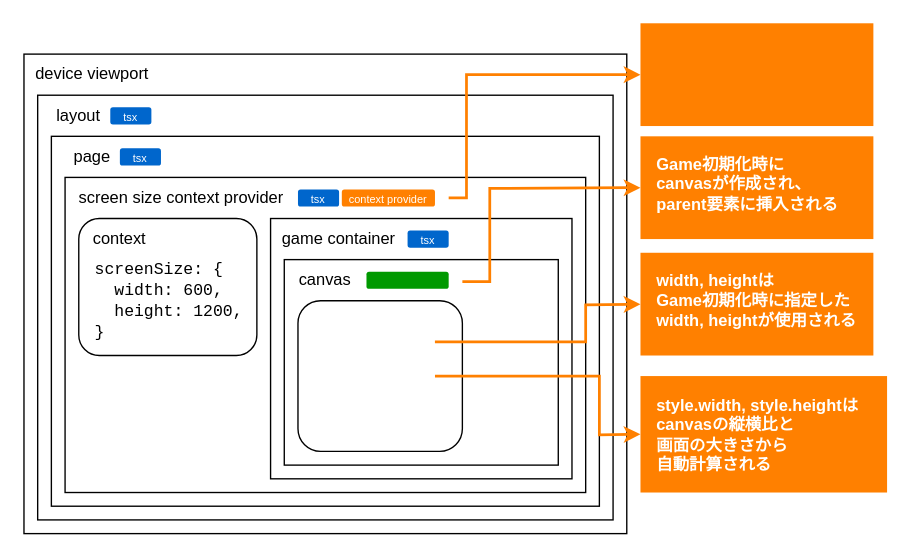
The diagram is 911 pixels wide and 558 high, and some of its shapes have lost their labels. The shapes that lost their labels are listed below. From the top down, each one's centre as x and y in pixels, then its label:
point 756,74: 画面リサイズ時に 画面サイズを取得し、 コンテキストに設定する
point 407,279: dom elemnt
point 379,375: width: 320 height: 640 style: width: 600 height: 1200
